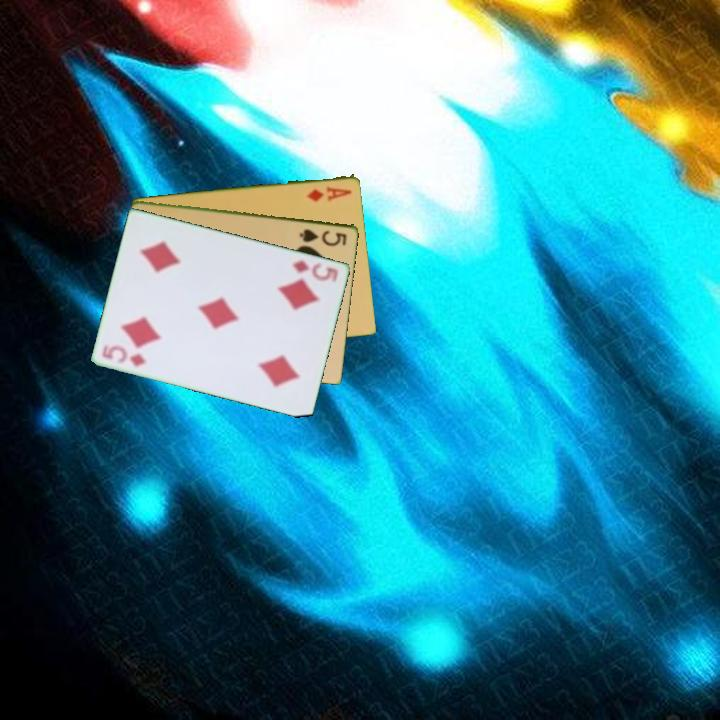5d: (289, 256, 341, 285), (99, 341, 149, 370)
5s: (296, 225, 350, 248)
Ad: (303, 182, 355, 204)
